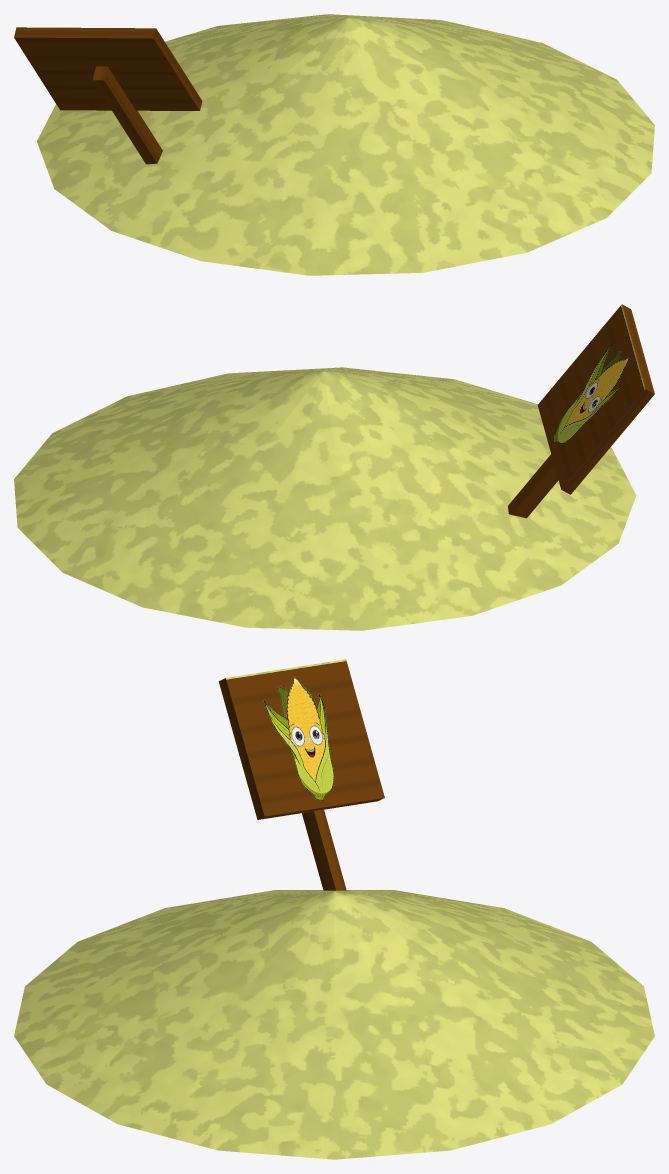
Rendered from Maiz_FBX.FBX.
3 renders of one model, top to bottom at view 1: azimuth 30°, elevation 25°; view 2: azimuth 150°, elevation 25°; view 3: azimuth 270°, elevation 25°, orthographic. The views are drawn at different scales.
Parts seen in each view (by area): view 1: Cone001, Box001; view 2: Cone001, Box001; view 3: Cone001, Box001.
Part boxes in pixels (x1=…): Cone001: x1=37, y1=14, x2=654, y2=275; Box001: x1=14, y1=27, x2=202, y2=164; Cone001: x1=14, y1=367, x2=636, y2=630; Box001: x1=508, y1=304, x2=654, y2=518; Cone001: x1=14, y1=890, x2=654, y2=1159; Box001: x1=218, y1=659, x2=384, y2=890.
Bounding box in the file's own units: 5.09 × 1.74 × 4.54.
Materials: 1 (1 with a texture image).
